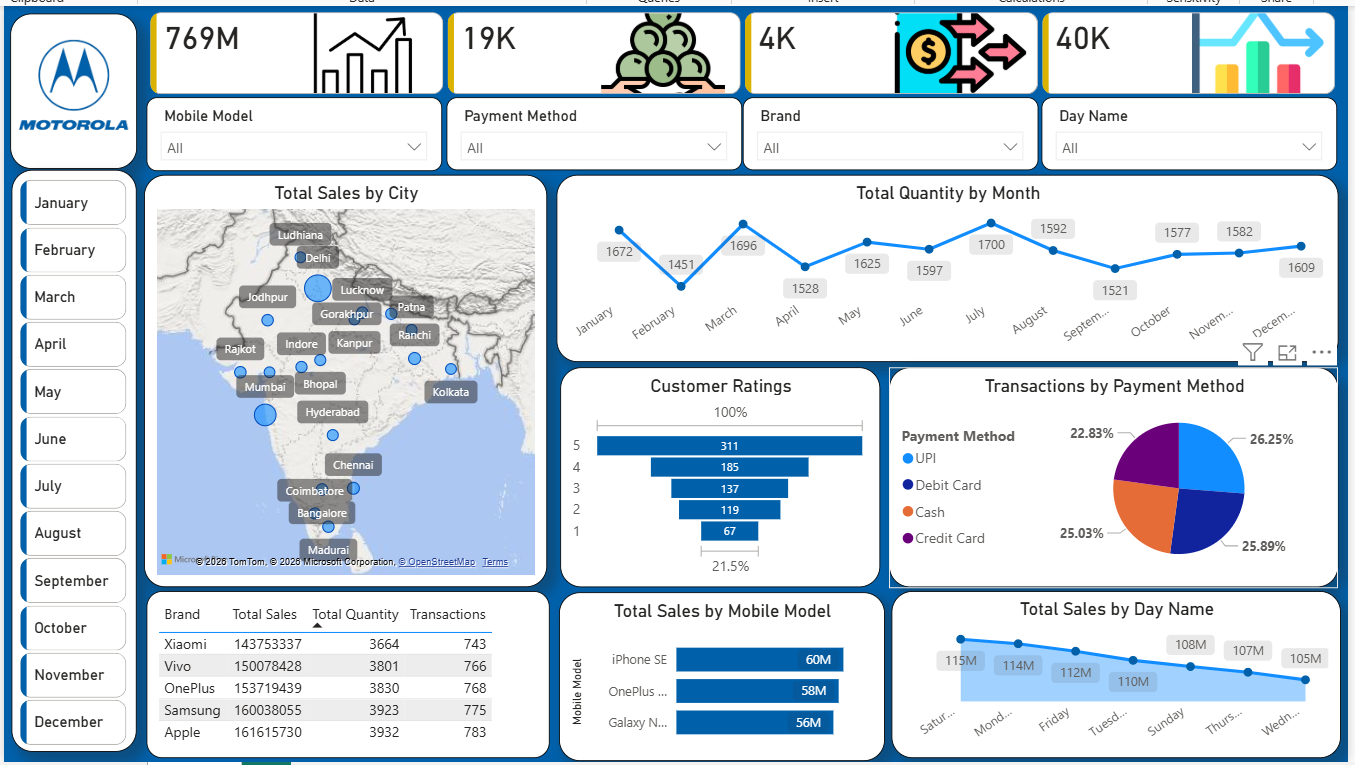

This screenshot's page, from the dashboard's own definition file:
{"tool":"powerbi","page":{"name":"Page 1","canvas":[1280,720],"ordinal":0},"visuals":[{"type":"shape","box":[5.5,6.9,120.8,148.2],"z":0},{"type":"image","box":[9.6,16.5,113.9,116.6],"z":1000},{"type":"shape","box":[6.9,156.4,119.4,554.4],"z":2000},{"type":"advancedSlicerVisual","fields":{"Values":["Sales_Data.Date.Variation.Date Hierarchy.Month"]},"box":[11,160.5,111.1,548.9],"z":3000},{"type":"cardVisual","fields":{"Data":["Sales_Data.Total Sales","Sales_Data.Total Quantity","Sales_Data.Transactions","Sales_Data.Average"]},"box":[134,5.6,1140.1,83.7],"z":4000},{"type":"map","fields":{"Category":["Sales_Data.City"],"Size":["Sales_Data.Total Sales"]},"box":[132.9,160.8,384.1,393.1],"z":5000},{"type":"lineChart","fields":{"Y":["Sales_Data.Total Quantity"],"Category":["Sales_Data.Date.Variation.Date Hierarchy.Month","Sales_Data.Date.Variation.Date Hierarchy.Day"]},"box":[525.9,160.8,744.8,178.7],"z":6000},{"type":"clusteredBarChart","fields":{"Category":["Sales_Data.Mobile Model"],"Y":["Sales_Data.Total Sales"]},"box":[528.3,558.5,310.1,160.5],"z":7000},{"type":"pieChart","fields":{"Category":["Sales_Data.Payment Method"],"Y":["Sales_Data.Transactions"]},"box":[842.5,344.4,428.1,209.9],"z":8000},{"type":"funnel","title":"Customer Ratings","fields":{"Category":["Sales_Data.Customer Ratings"],"Y":["CountNonNull(Sales_Data.Customer Ratings)"]},"box":[529.7,344.4,304.6,209.9],"z":9000},{"type":"areaChart","fields":{"Category":["Sales_Data.Day Name"],"Y":["Sales_Data.Total Sales"]},"box":[845.3,557.1,428.1,159.2],"z":10000},{"type":"tableEx","fields":{"Values":["Sales_Data.Brand","Sales_Data.Total Sales","Sales_Data.Total Quantity","Sales_Data.Transactions"]},"box":[135.8,557.1,384.2,159.2],"z":11000},{"type":"slicer","fields":{"Values":["Sales_Data.Mobile Model"]},"box":[136.2,87.1,281.4,70.3],"z":12000},{"type":"slicer","fields":{"Values":["Sales_Data.Payment Method"]},"box":[421,87.1,281.4,69.2],"z":13000},{"type":"slicer","fields":{"Values":["Sales_Data.Brand"]},"box":[703.5,87.1,281.4,69.2],"z":14000},{"type":"slicer","fields":{"Values":["Sales_Data.Day Name"]},"box":[988.2,87.1,281.4,69.2],"z":15000}]}

Visuals, with their boxes in screenshot pixels (x1, y1, x2, y2):
shape: 9,11,135,165
image: 14,21,132,142
shape: 11,167,135,746
advancedSlicerVisual - Sales_Data.Date.Variation.Date Hierarchy.Month: 15,171,131,744
cardVisual - Sales_Data.Total Sales x Sales_Data.Total Quantity: 143,9,1334,97
map - Sales_Data.City x Sales_Data.Total Sales: 142,171,543,582
lineChart - Sales_Data.Total Quantity x Sales_Data.Date.Variation.Date Hierarchy.Month: 553,171,1330,358
clusteredBarChart - Sales_Data.Mobile Model x Sales_Data.Total Sales: 555,587,879,754
pieChart - Sales_Data.Payment Method x Sales_Data.Transactions: 883,363,1330,582
"Customer Ratings" funnel: 557,363,875,582
areaChart - Sales_Data.Day Name x Sales_Data.Total Sales: 886,585,1333,751
tableEx - Sales_Data.Brand x Sales_Data.Total Sales: 145,585,546,751
slicer - Sales_Data.Mobile Model: 146,94,439,168
slicer - Sales_Data.Payment Method: 443,94,737,167
slicer - Sales_Data.Brand: 738,94,1032,167
slicer - Sales_Data.Day Name: 1035,94,1329,167
